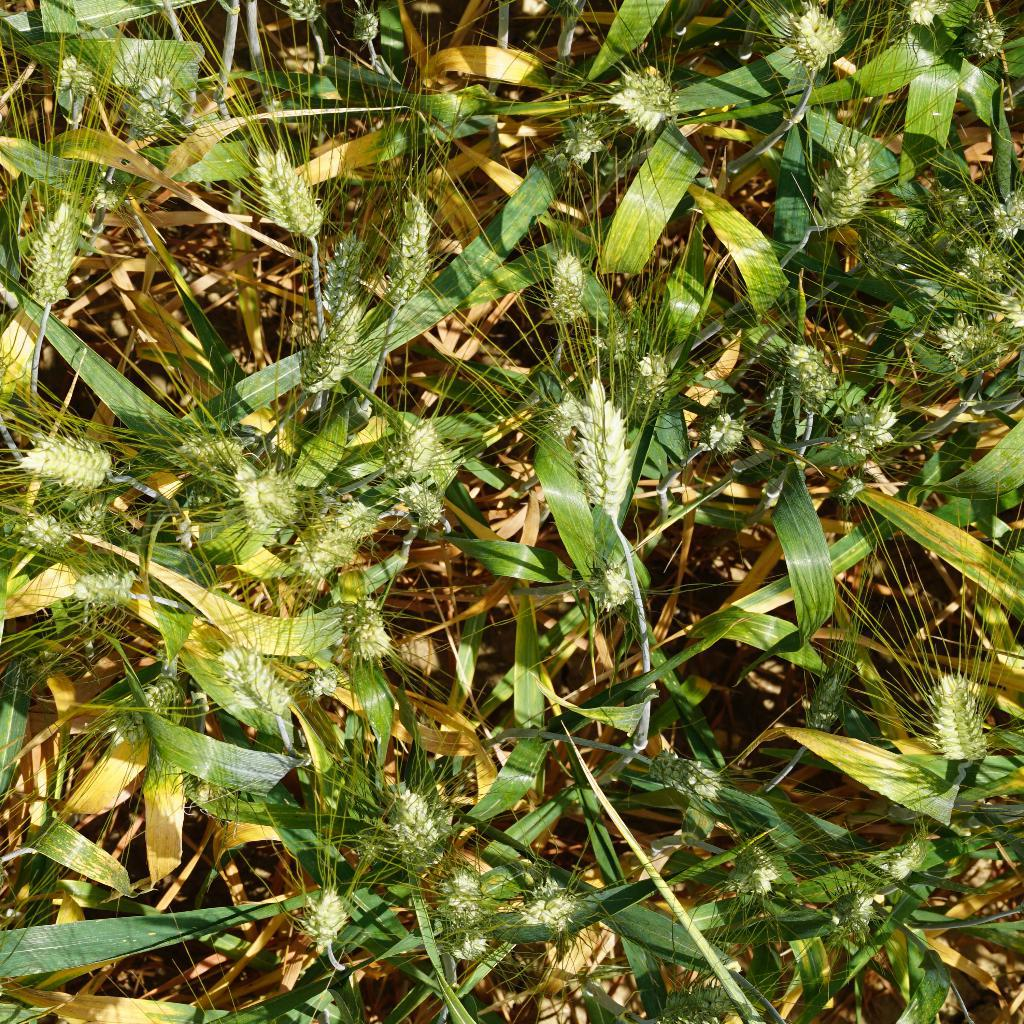0-0: (565, 376, 653, 526), (14, 180, 100, 305), (794, 622, 868, 754), (249, 139, 336, 250), (189, 619, 288, 714), (922, 654, 994, 784), (802, 145, 879, 247), (103, 658, 190, 747), (604, 66, 697, 148), (292, 492, 380, 576), (369, 759, 448, 849), (387, 187, 443, 311), (314, 227, 377, 335), (18, 428, 115, 496), (290, 877, 359, 964), (504, 862, 586, 935), (757, 328, 829, 408), (834, 392, 911, 464), (614, 345, 680, 429), (167, 411, 246, 481), (945, 0, 1012, 79), (280, 332, 351, 406), (47, 38, 104, 130), (224, 468, 301, 534), (123, 56, 182, 142), (645, 979, 754, 1024), (392, 460, 458, 534), (941, 311, 1015, 377), (587, 549, 650, 626), (342, 589, 400, 671), (778, 2, 851, 67), (634, 751, 718, 806), (544, 243, 595, 331), (430, 858, 486, 938), (185, 459, 247, 530), (854, 218, 929, 276), (8, 503, 90, 553), (720, 841, 780, 903), (74, 565, 145, 617), (395, 413, 453, 474), (594, 310, 650, 373), (963, 230, 1019, 291), (832, 870, 878, 941), (559, 111, 606, 178), (701, 408, 751, 470), (186, 744, 231, 809), (68, 176, 138, 215), (543, 384, 586, 446), (339, 0, 389, 53), (874, 834, 930, 879), (879, 0, 952, 34), (929, 180, 983, 225), (72, 480, 115, 536), (20, 643, 64, 693), (297, 658, 345, 701), (984, 190, 1024, 240), (273, 0, 336, 28), (832, 474, 871, 506)
